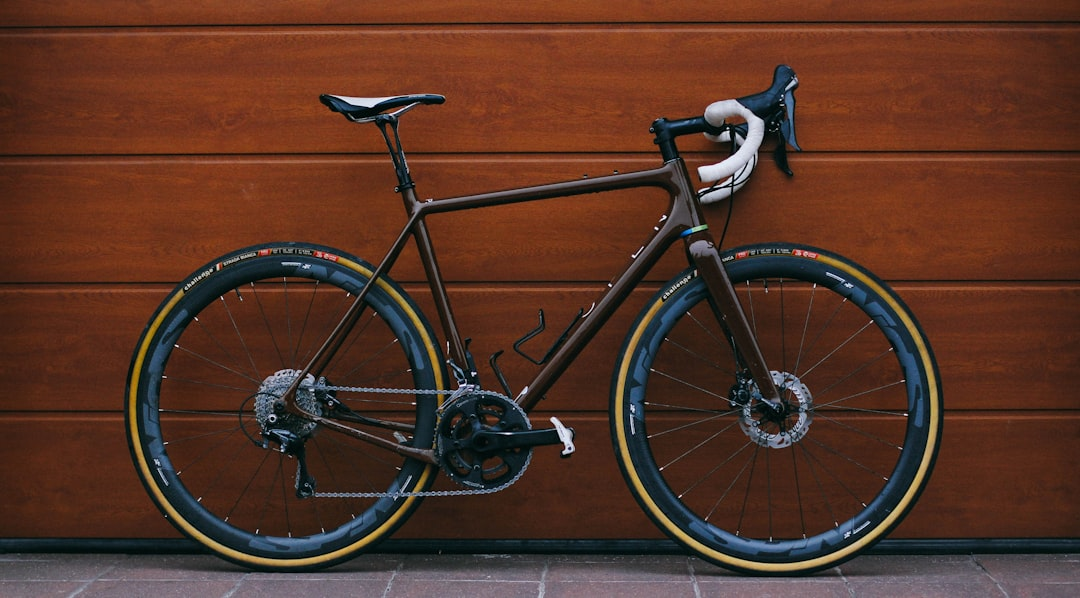bicycle: (124, 68, 946, 573)
